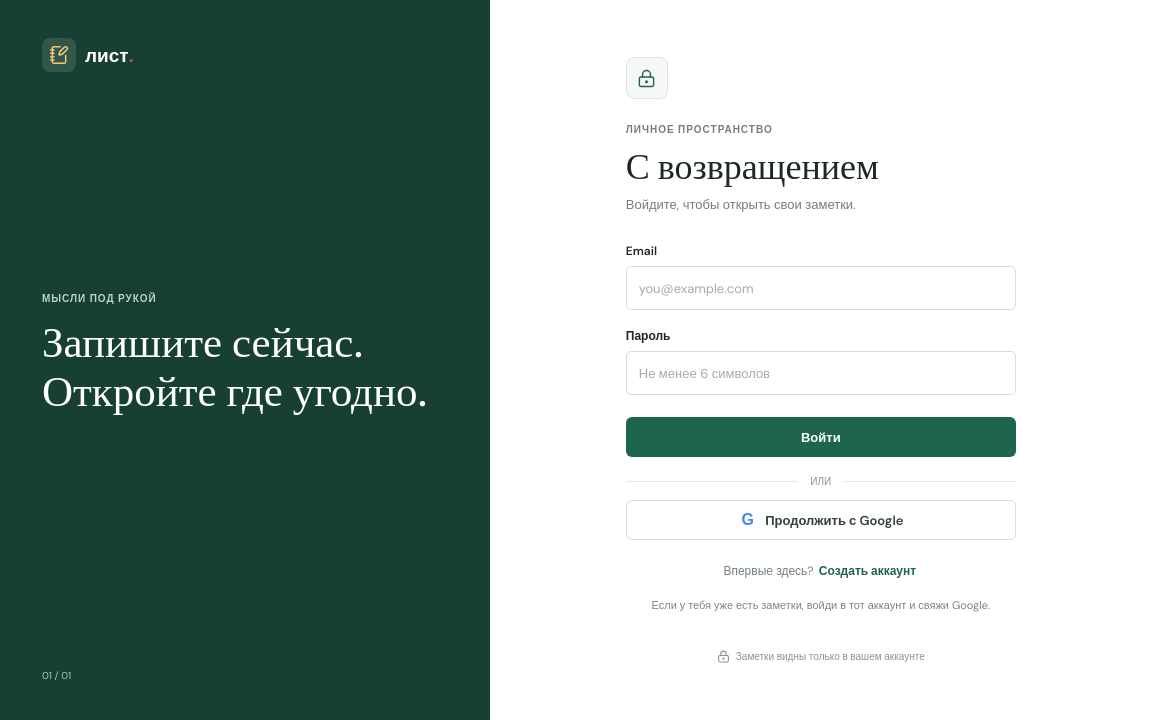
Test case: notes app › keeps the draft and shows a retryable error when saving fails
In the field labelled "Email": (821, 288) [626, 266, 1016, 310], type "reader@example.com"
In the password field labelled "Пароль": (821, 374) [626, 352, 1016, 396], type "not-a-real-password"
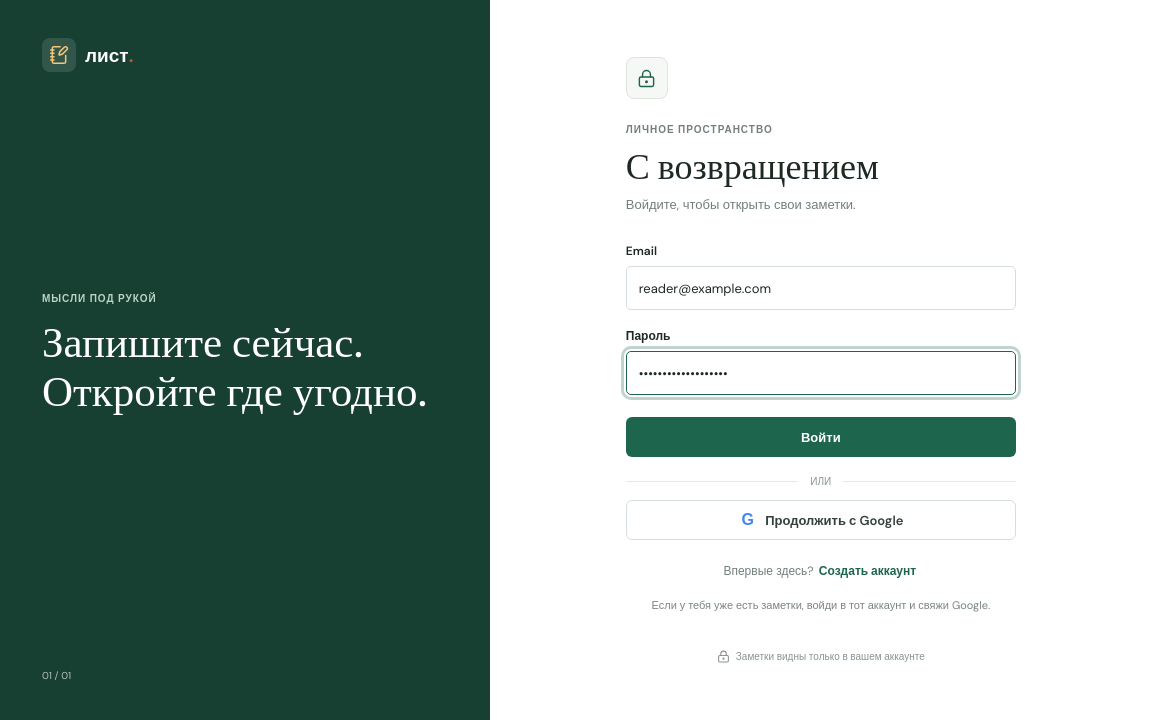
Click the button "Войти": (821, 438) [626, 418, 1016, 458]
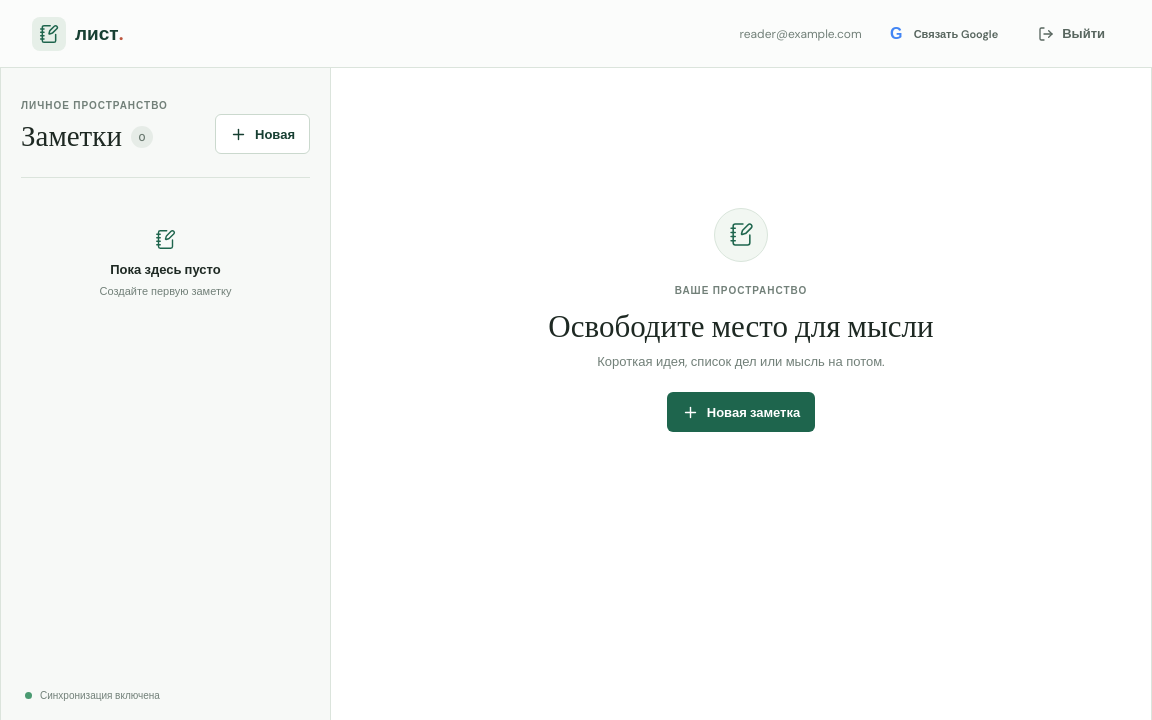
Expected: the text "Синхронизация включена" is shown, [25, 689, 160, 702]
Click the button "Новая заметка": (741, 412) [667, 392, 815, 432]
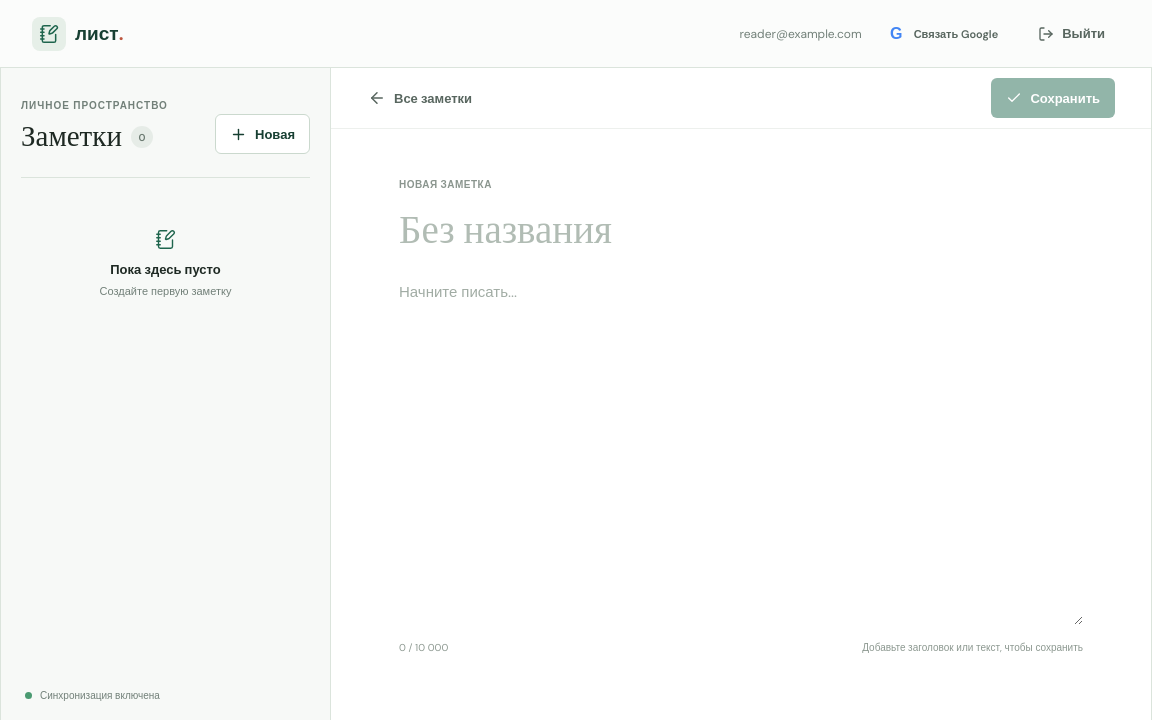
In the field named "Заголовок заметки": (741, 234) [399, 211, 1083, 257], type "На потом"
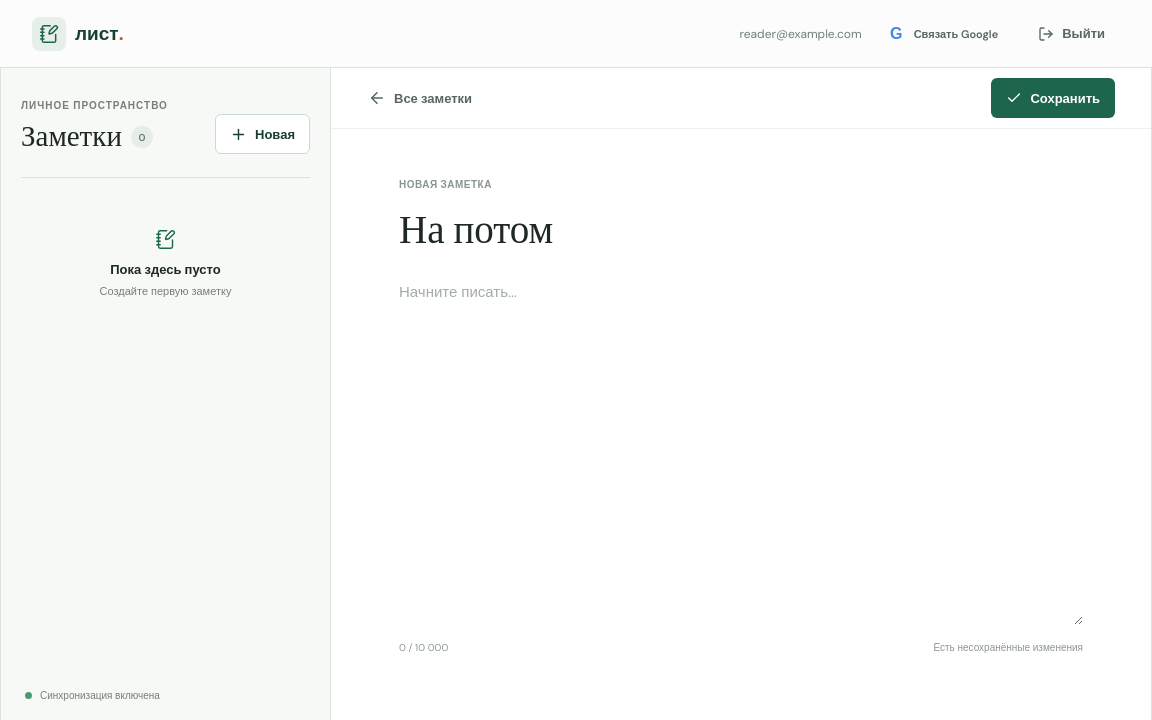
In the text box named "Текст заметки": (741, 452) [399, 279, 1083, 625], type "Оставить этот текст"
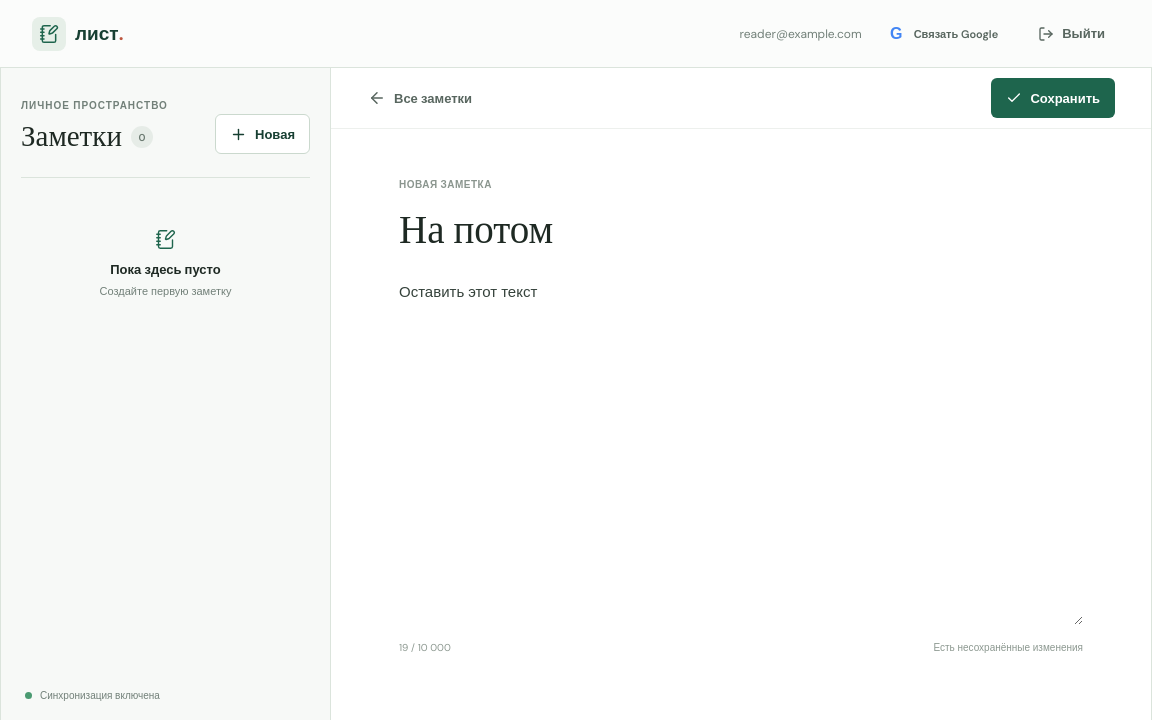
Click the button "Сохранить": (1053, 98) [991, 78, 1115, 118]
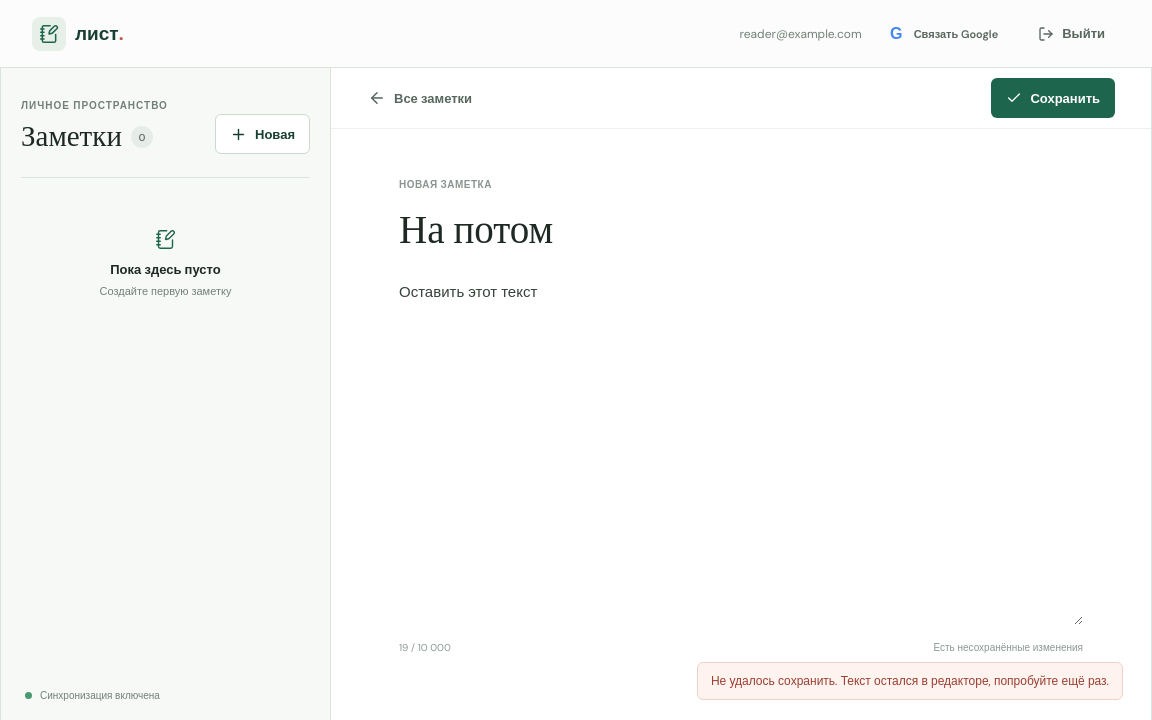
Expected: the message shows "Текст остался в редакторе", [711, 673, 1109, 689]
